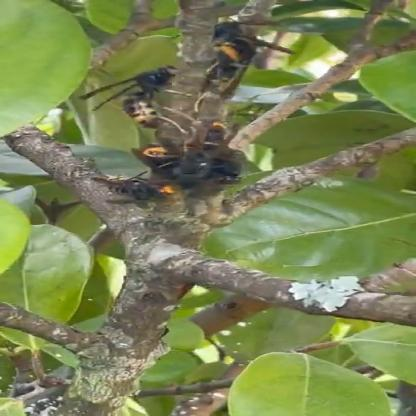bee: (125, 138, 237, 210), (200, 16, 269, 82), (123, 56, 179, 124)
